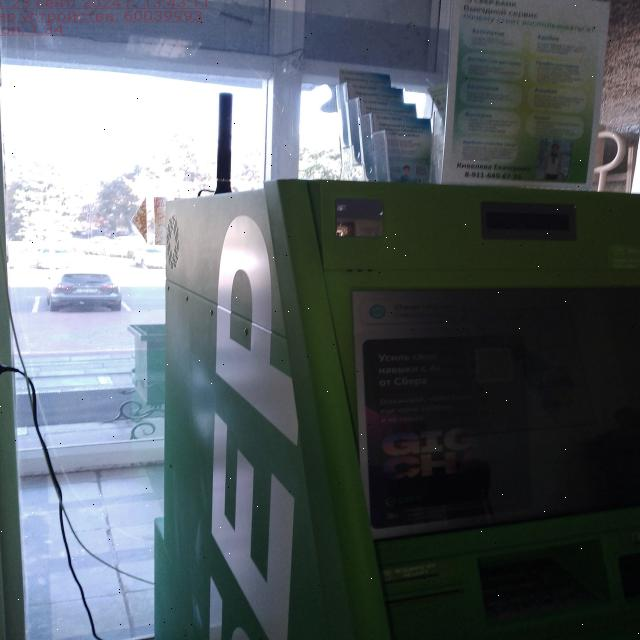bank: (162, 183, 640, 640)
